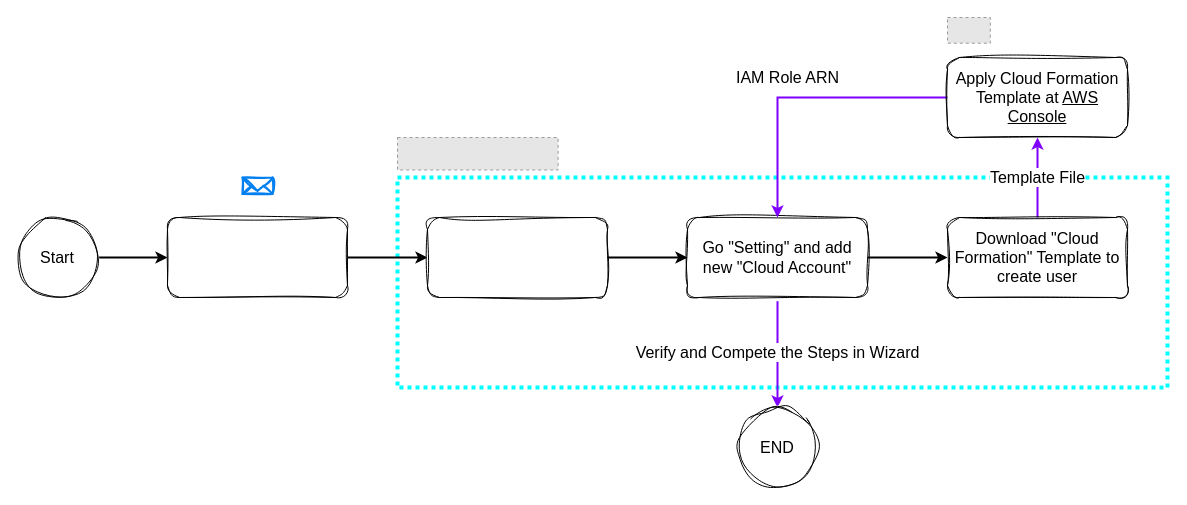
Image size: 1187x505. Some labels were removed from this diagram. Grey dashed boxes stand in for pictures. The shapes that lost their labels are listed below. From the top down, each one's box as (x1, y1, x2, y2) in pixels, then its label:
(166, 216, 348, 298): Activate Prisma Cloud Eval Tenant following the email
(426, 216, 608, 298): Login Prisma Cloud Tenant
